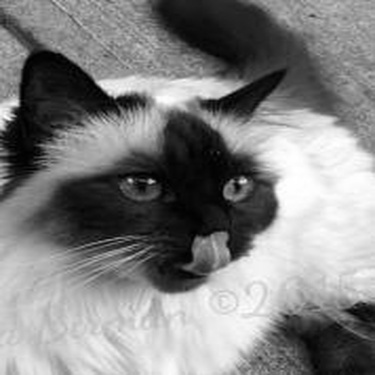cat: (10, 40, 371, 357)
